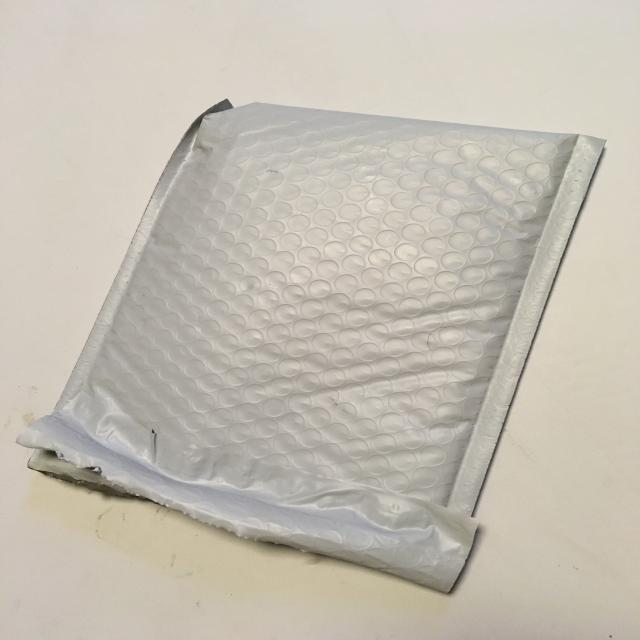plastic: (15, 98, 606, 593)
